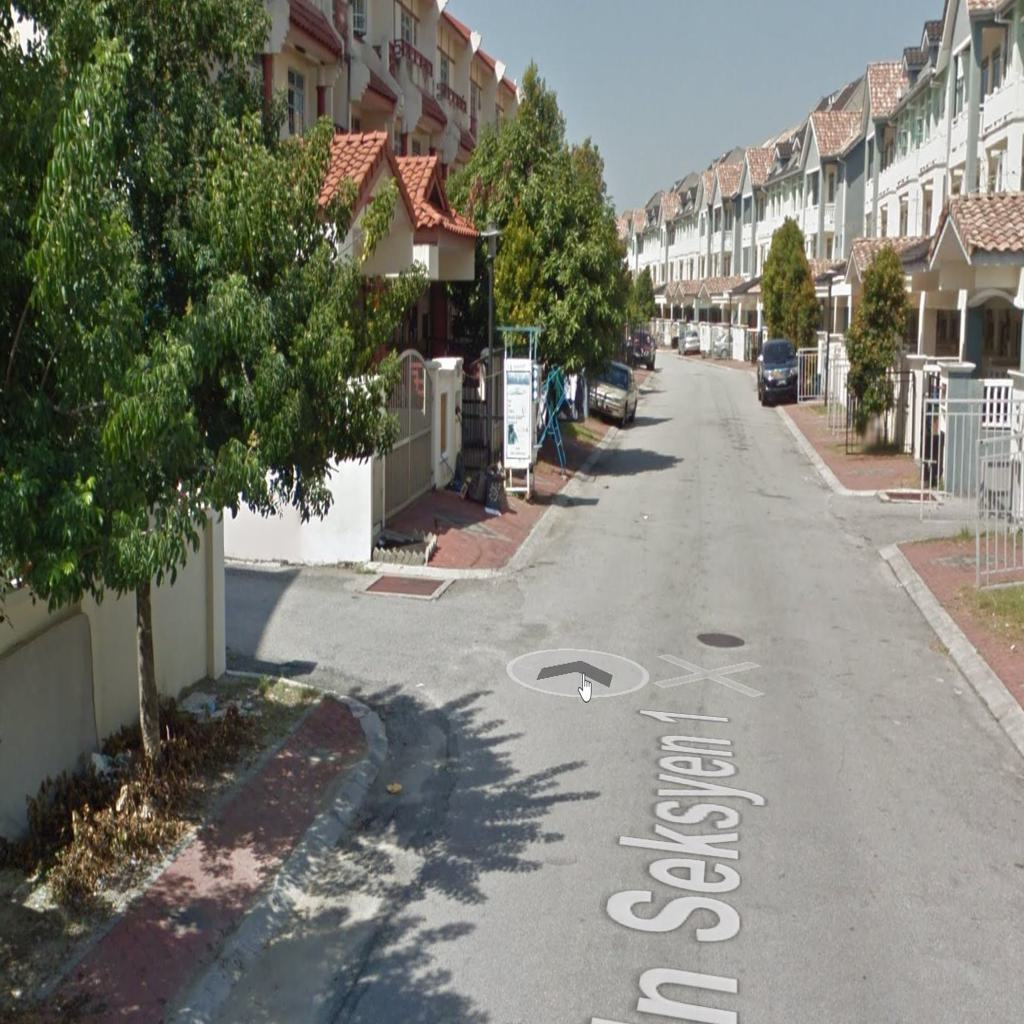Junction: (228, 548, 516, 752), (819, 461, 991, 564)
